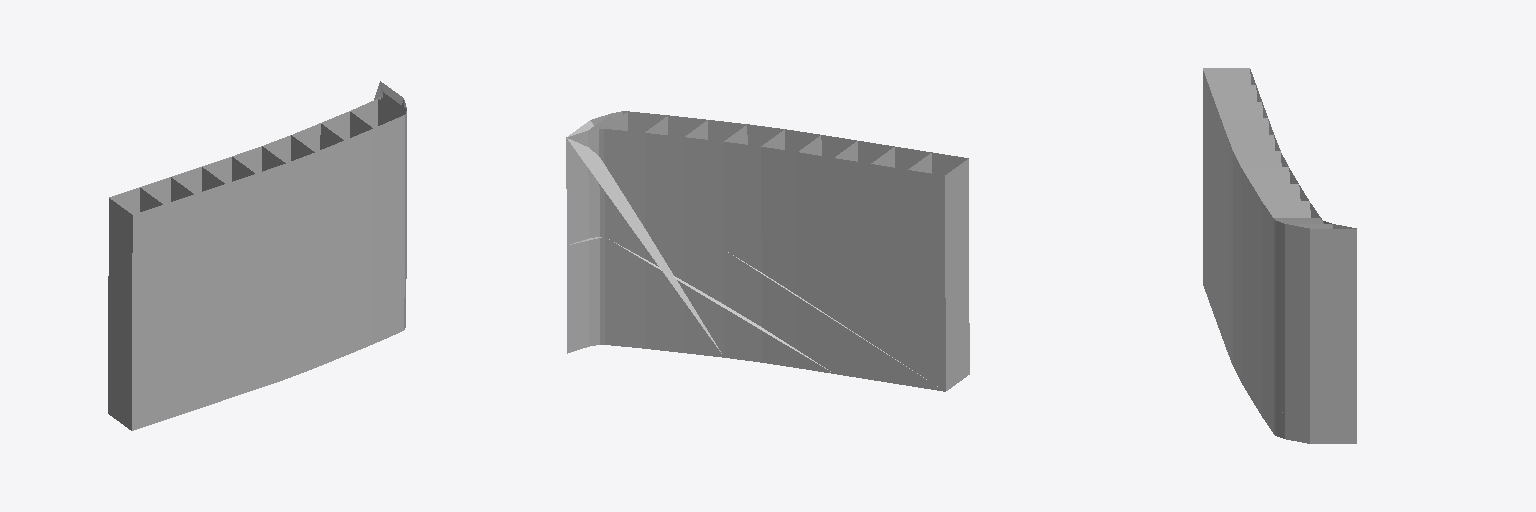
Rendered from 3d_Ashenvale - Falls River.wlw.obj.
3 renders of one model, left to right at view 1: azimuth 30°, elevation 25°; view 2: azimuth 150°, elevation 25°; view 3: azimuth 270°, elevation 25°, orthographic.
Bounding box in the file's own units: 78.99 × 50.43 × 32.51.